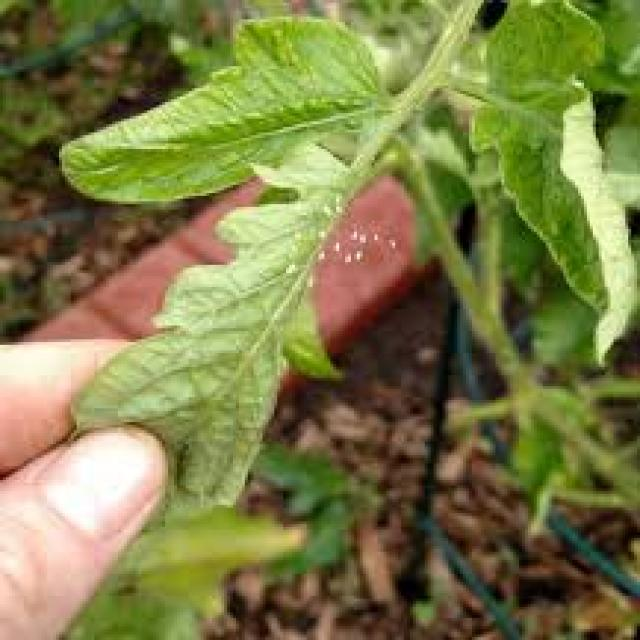Pestalotiopsis: (282, 154, 436, 318), (163, 338, 291, 443)
